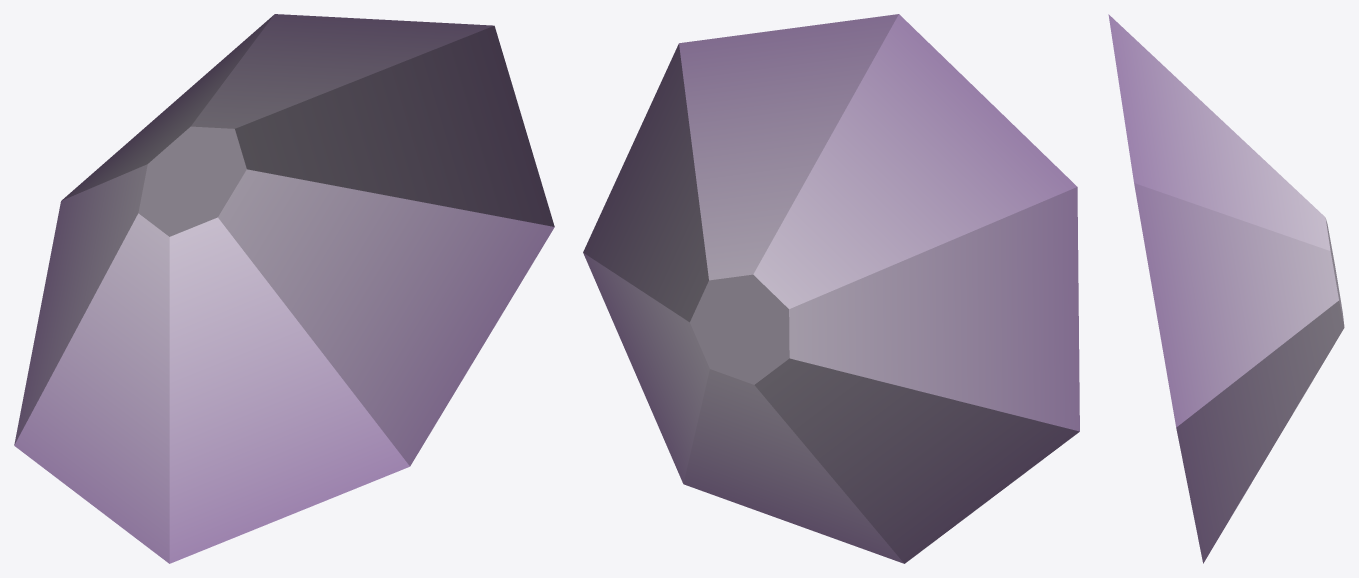
File: IglooStageLight_frame02_1.glb
3 views of the same model, side by side, from view 1: azimuth 30°, elevation 25°; view 2: azimuth 150°, elevation 25°; view 3: azimuth 270°, elevation 25° (orthographic). The views are drawn at different scales.
Parts seen in each view (by area): view 1: IglooStageLight_frame02; view 2: IglooStageLight_frame02; view 3: IglooStageLight_frame02.
Part boxes in pixels (x1,y1,x2,y2): IglooStageLight_frame02: (14, 14, 554, 563); IglooStageLight_frame02: (583, 14, 1079, 563); IglooStageLight_frame02: (1108, 14, 1344, 563).
Bounding box in the file's own units: 0.659 × 0.6538 × 0.2804.
